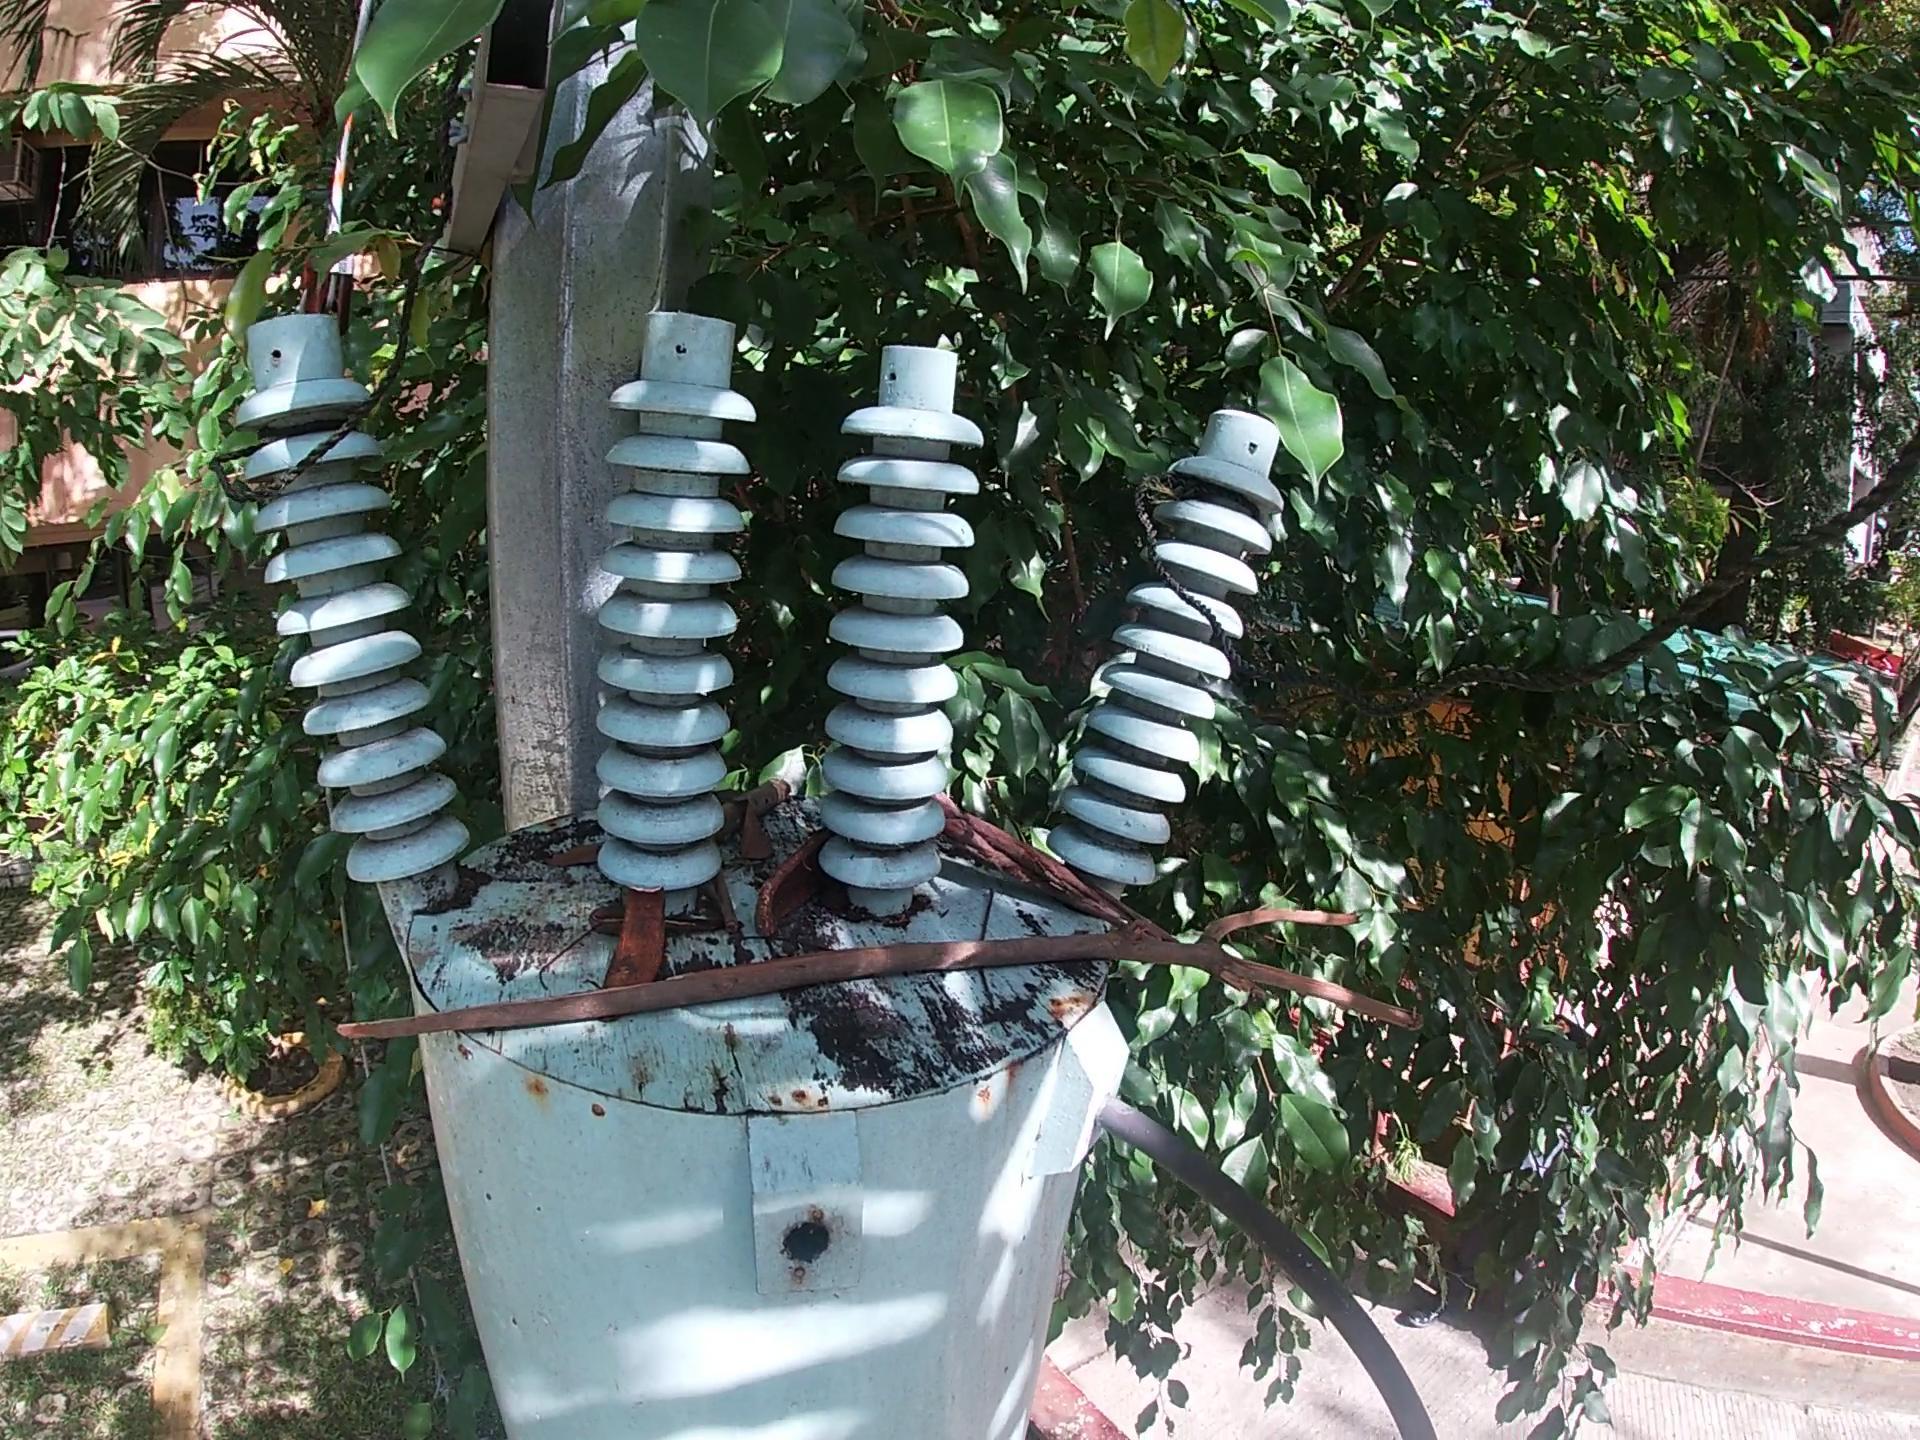leaf: (736, 793, 777, 868), (541, 843, 609, 870), (585, 898, 618, 947)
mahogany fruit: (594, 882, 677, 1000), (751, 835, 831, 945)
tree branch: (327, 900, 1420, 1054), (937, 788, 1194, 945), (717, 774, 794, 838), (708, 870, 742, 942)
